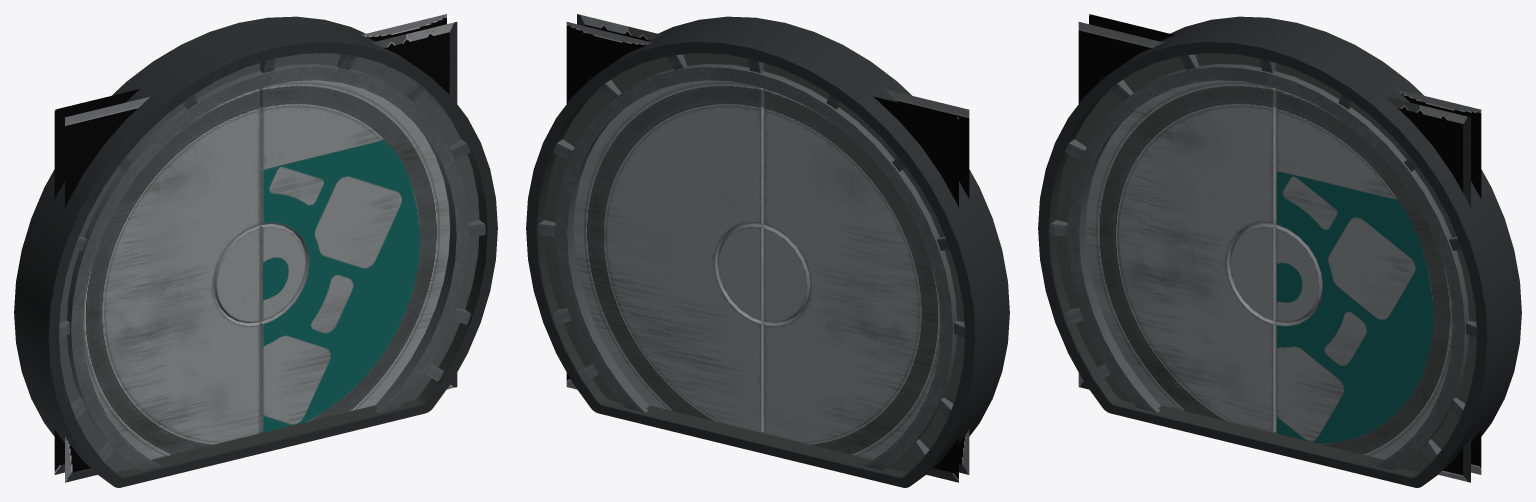
File: Door.fbx
The picture shows the model from 3 angles, left to right: view 1: azimuth 30°, elevation 25°; view 2: azimuth 150°, elevation 25°; view 3: azimuth 330°, elevation 25°; orthographic projection.
Parts seen in each view (by area): view 1: lp_circle_mid_001, lp_door_right_001, lp_door_left_001, lp_center_mini_right_001, lp_center_mini_left_001; view 2: lp_circle_mid_001, lp_door_right_001, lp_door_left_001, lp_center_mini_right_001, lp_center_mini_left_001; view 3: lp_circle_mid_001, lp_door_left_001, lp_door_right_001, lp_center_mini_left_001, lp_center_mini_right_001.
Boxes of the visible parts, x1,y1,x2,y2 form: lp_circle_mid_001: [14, 16, 497, 487]; lp_door_right_001: [260, 14, 457, 432]; lp_door_left_001: [54, 88, 259, 482]; lp_center_mini_right_001: [260, 224, 306, 321]; lp_center_mini_left_001: [213, 225, 259, 323]; lp_circle_mid_001: [526, 16, 1009, 487]; lp_door_right_001: [566, 14, 763, 432]; lp_door_left_001: [764, 88, 969, 482]; lp_center_mini_right_001: [717, 224, 763, 321]; lp_center_mini_left_001: [764, 225, 810, 323]; lp_circle_mid_001: [1038, 16, 1521, 487]; lp_door_left_001: [1078, 14, 1275, 432]; lp_door_right_001: [1276, 88, 1481, 482]; lp_center_mini_left_001: [1229, 224, 1275, 321]; lp_center_mini_right_001: [1276, 225, 1322, 323].
Size of the model in its own units: 263 by 225 by 34.93.
Materials: 1 (1 with a texture image).
